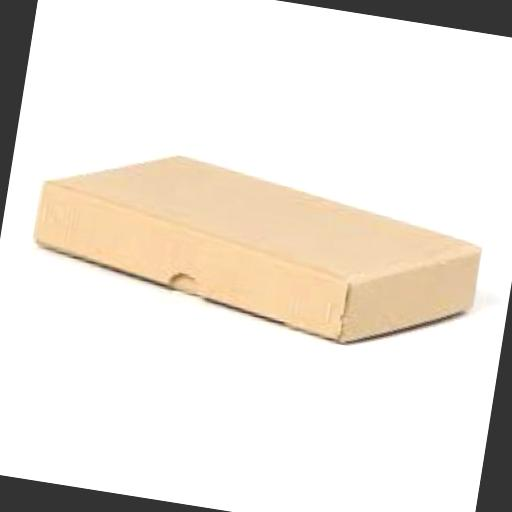cardboard: (24, 133, 492, 364)
